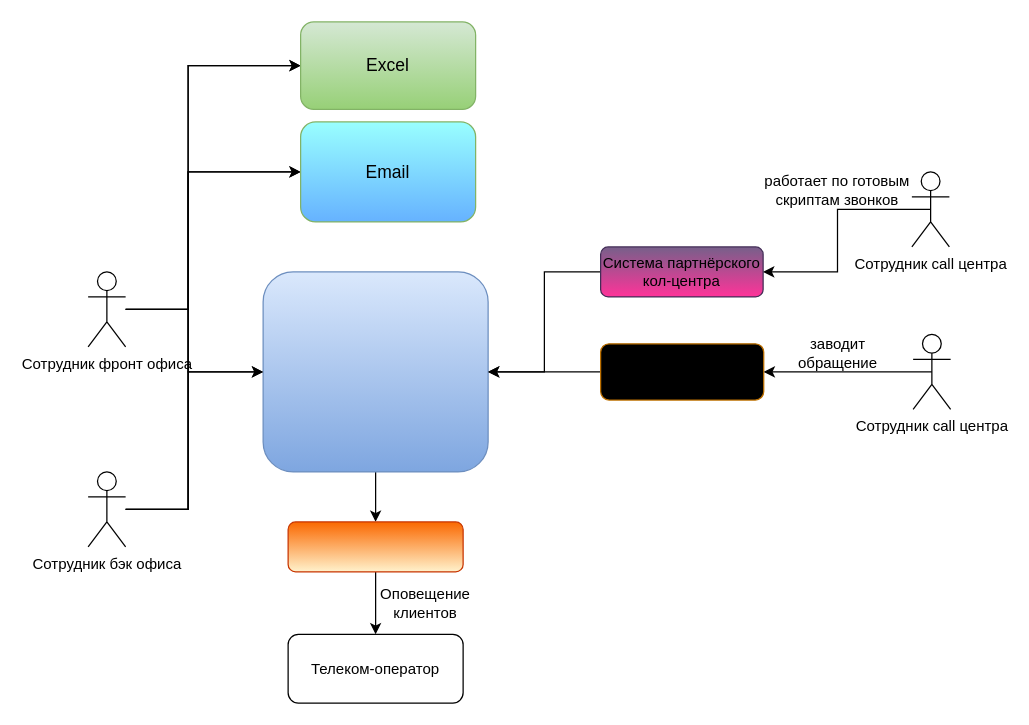
Image size: 1029x725. Some labels were removed from this diagram. Each missing label, with the box of its shape:
АБС: (262, 271, 488, 472)
СМС шлюз: (287, 521, 463, 572)
